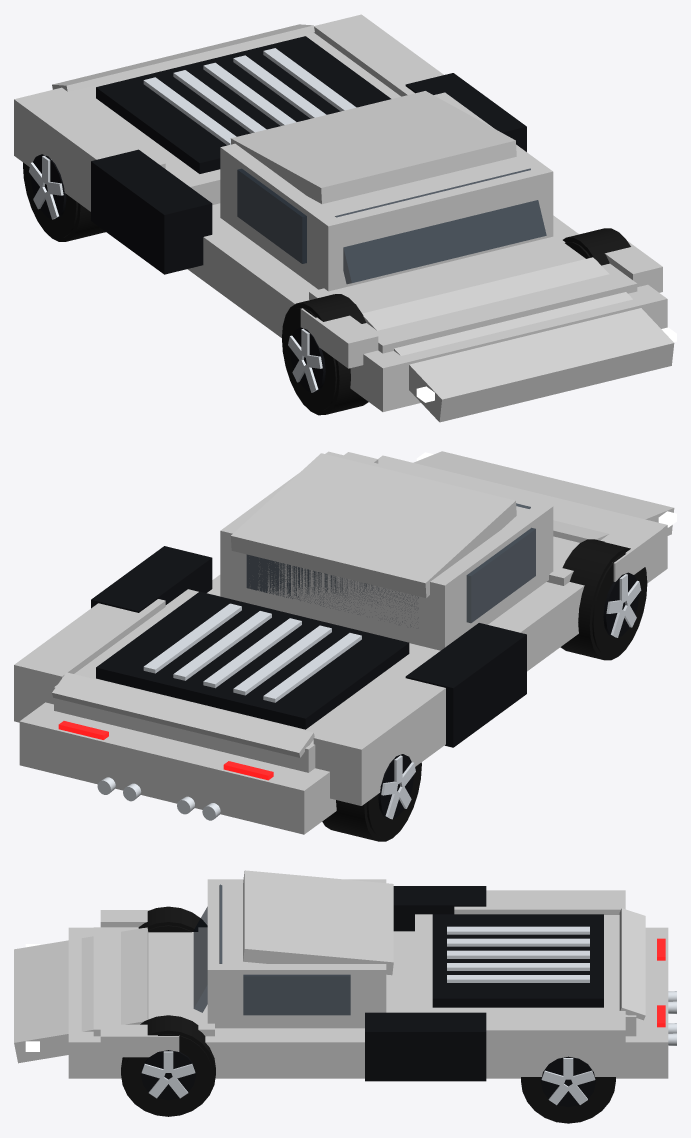
The model's file is shovel-thresher.glb.
The picture shows the model from 3 angles, top to bottom: view 1: azimuth 30°, elevation 25°; view 2: azimuth 150°, elevation 25°; view 3: azimuth 270°, elevation 25°; orthographic projection. The views are drawn at different scales.
Visible parts, largest first — view 1: chassis, glass, wheel-front-left, wheel-back-left, wheel-front-right; view 2: chassis, wheel-front-left, wheel-back-left; view 3: chassis, wheel-front-right, wheel-back-right, glass, wheel-front-left.
Boxes of the visible parts, bbox=[...] form: chassis: bbox=[14, 14, 676, 422]; glass: bbox=[335, 168, 546, 283]; wheel-front-left: bbox=[282, 294, 368, 415]; wheel-back-left: bbox=[23, 154, 105, 241]; wheel-front-right: bbox=[563, 228, 630, 265]; chassis: bbox=[14, 451, 676, 834]; wheel-front-left: bbox=[560, 539, 647, 660]; wheel-back-left: bbox=[322, 754, 421, 841]; chassis: bbox=[14, 870, 676, 1081]; wheel-front-right: bbox=[121, 1015, 215, 1116]; wheel-back-right: bbox=[521, 1056, 615, 1123]; glass: bbox=[193, 884, 222, 1012]; wheel-front-left: bbox=[138, 906, 207, 932].
Bounding box in the file's own units: 2.42 × 1.12 × 4.64.
